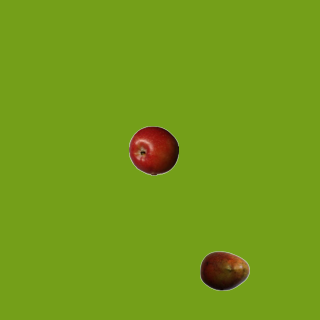Apple Braeburn: (128, 125, 178, 175)
Mango Red: (199, 245, 249, 295)
